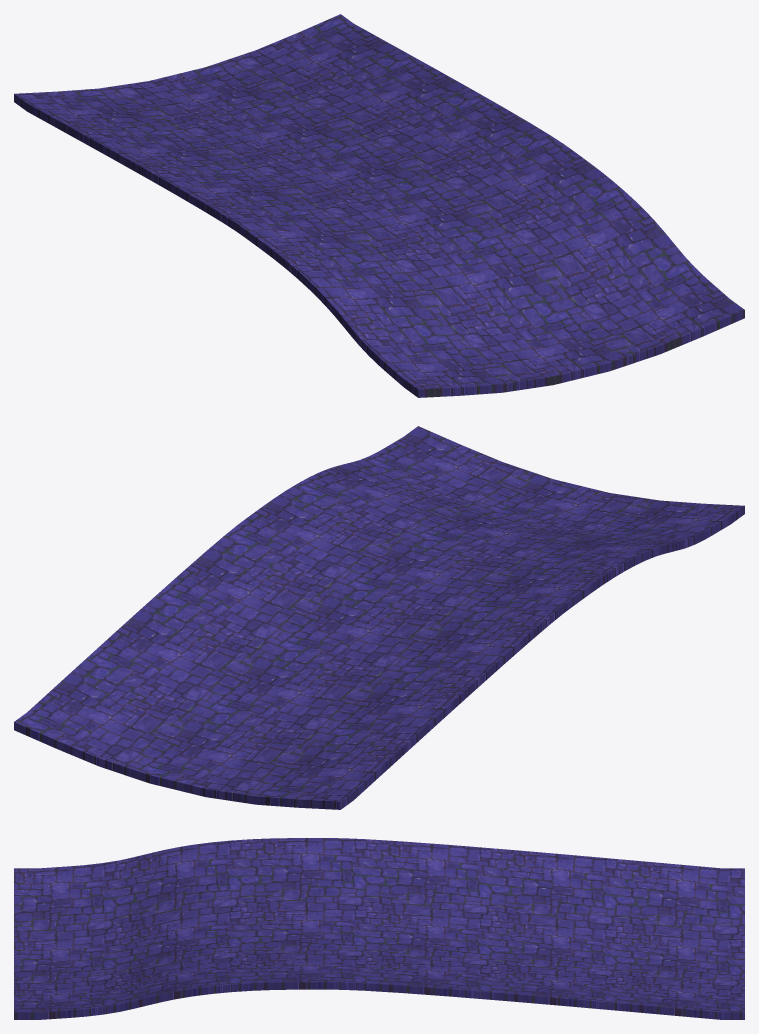
Rendered from G03_Hill_v2.obj.
The picture shows the model from 3 angles, top to bottom: view 1: azimuth 30°, elevation 25°; view 2: azimuth 150°, elevation 25°; view 3: azimuth 270°, elevation 25°; orthographic projection. The views are drawn at different scales.
Visible parts, largest first — view 1: G03_Hill_V2; view 2: G03_Hill_V2; view 3: G03_Hill_V2.
Part boxes in pixels (box(x1,y1,x2,y2)): G03_Hill_V2: box(14, 14, 744, 397); G03_Hill_V2: box(14, 426, 744, 809); G03_Hill_V2: box(14, 838, 744, 1019).
Size of the model in its own units: 28 by 5.07 by 60.
